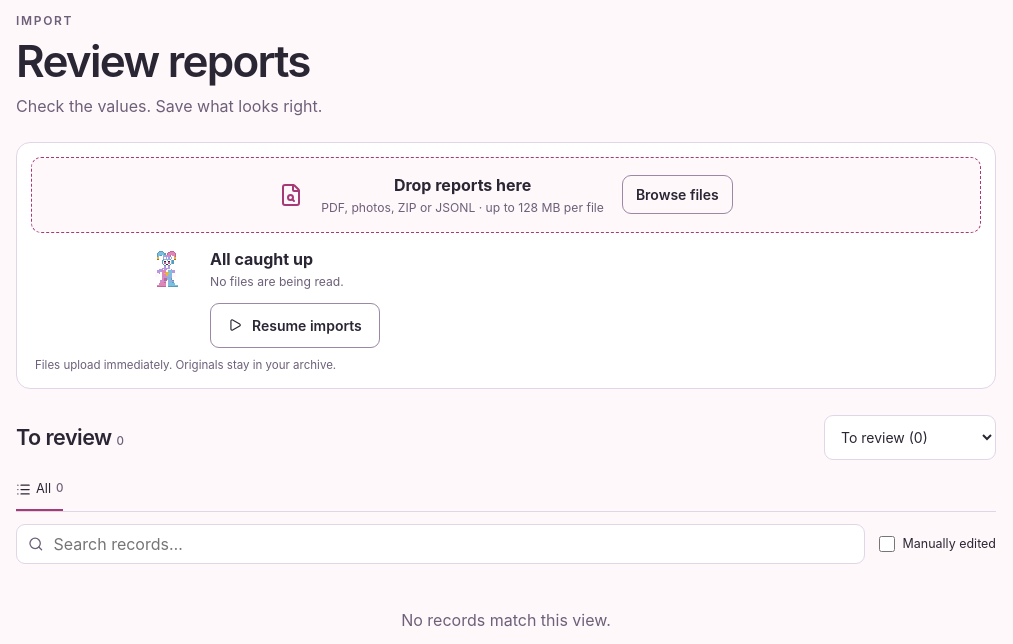
Test: shows a failed reading action and leaves its control retryable
The image size is (1013, 644).
Click the button "Resume imports": point(295, 325) [210, 303, 380, 348]
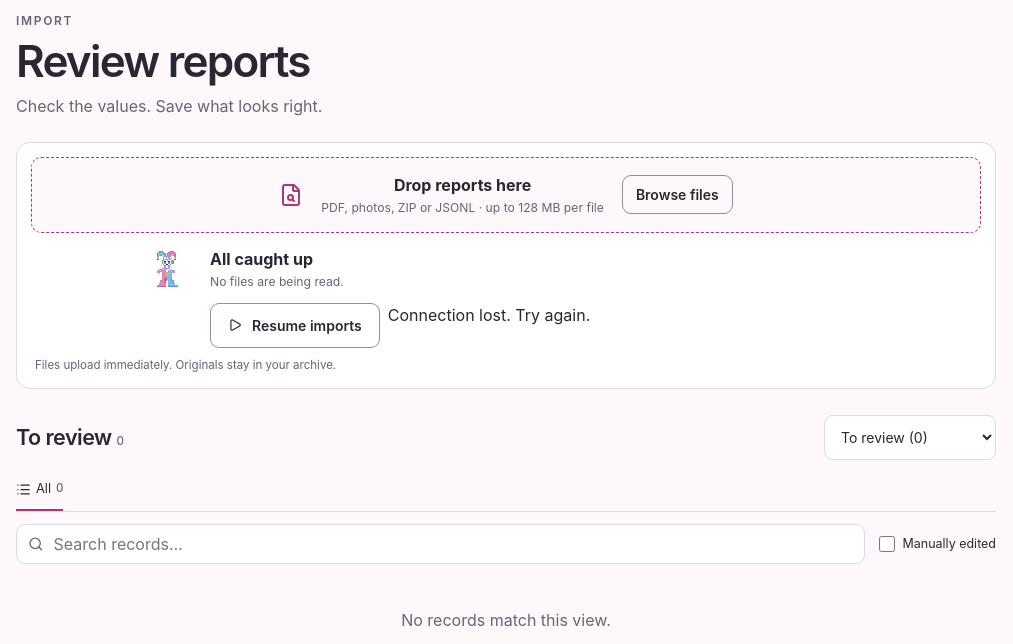
Check: the message reads "Connection lost. Try again.", box [388, 305, 590, 325]
